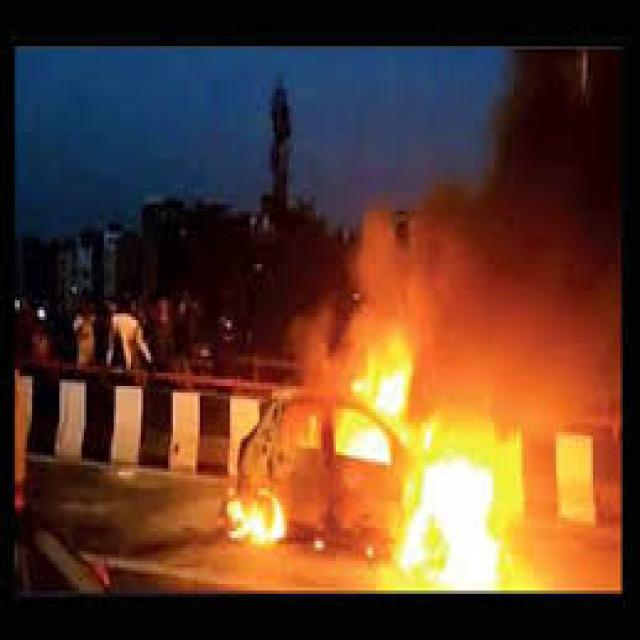Fire: (219, 326, 526, 615)
